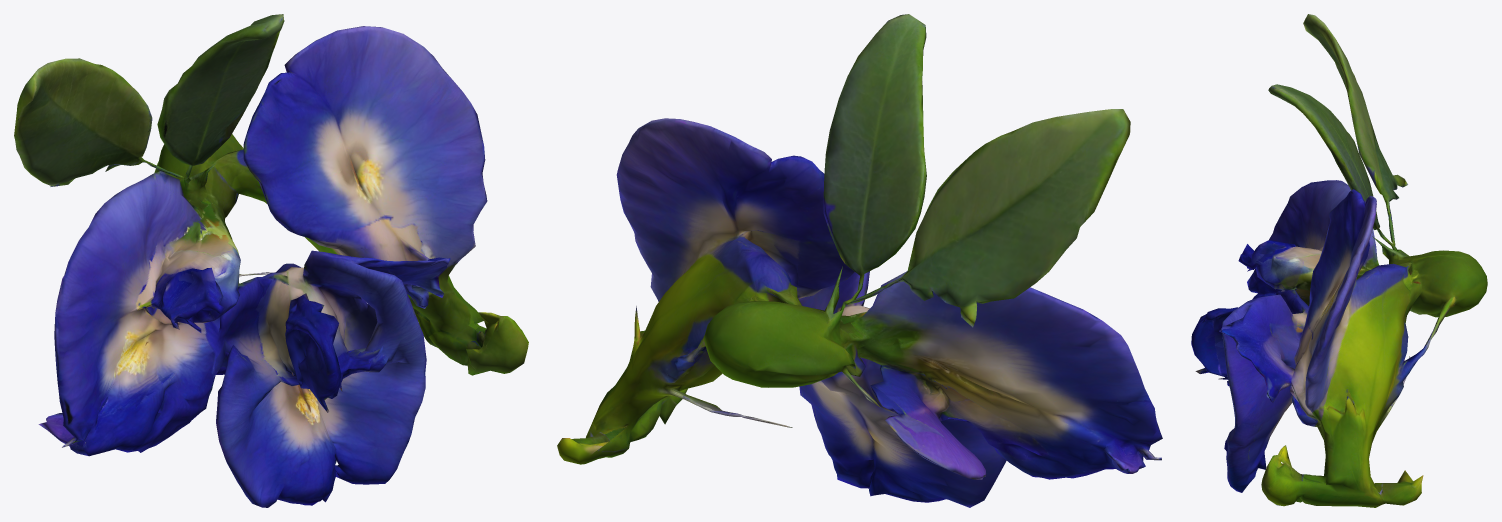
Rendered from shankhpushpi.glb.
3 renders of one model, left to right at view 1: azimuth 30°, elevation 25°; view 2: azimuth 150°, elevation 25°; view 3: azimuth 270°, elevation 25°, orthographic. The views are drawn at different scales.
Size of the model in its own units: 2 by 1.89 by 1.35.
Materials: 1 (1 with a texture image).
